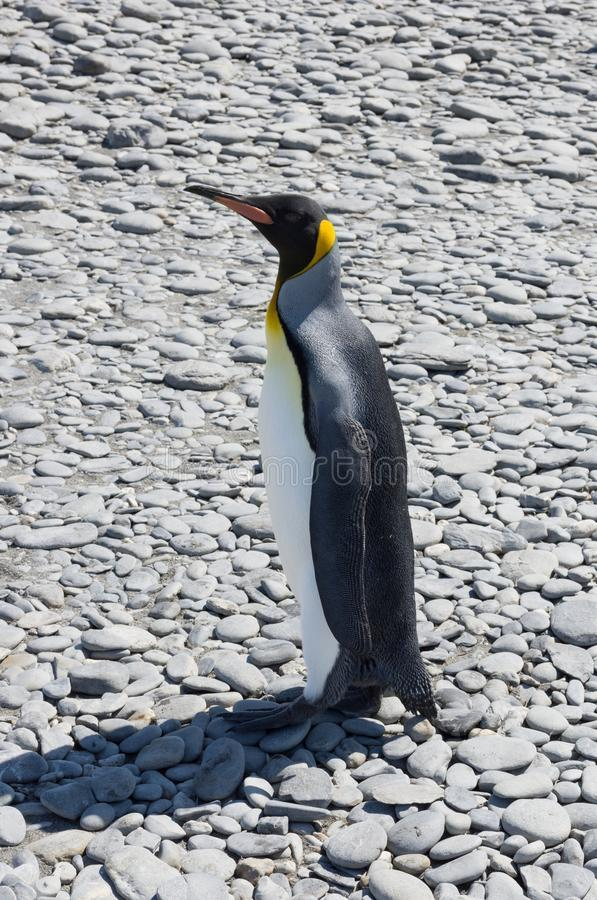king: (169, 148, 474, 732)
